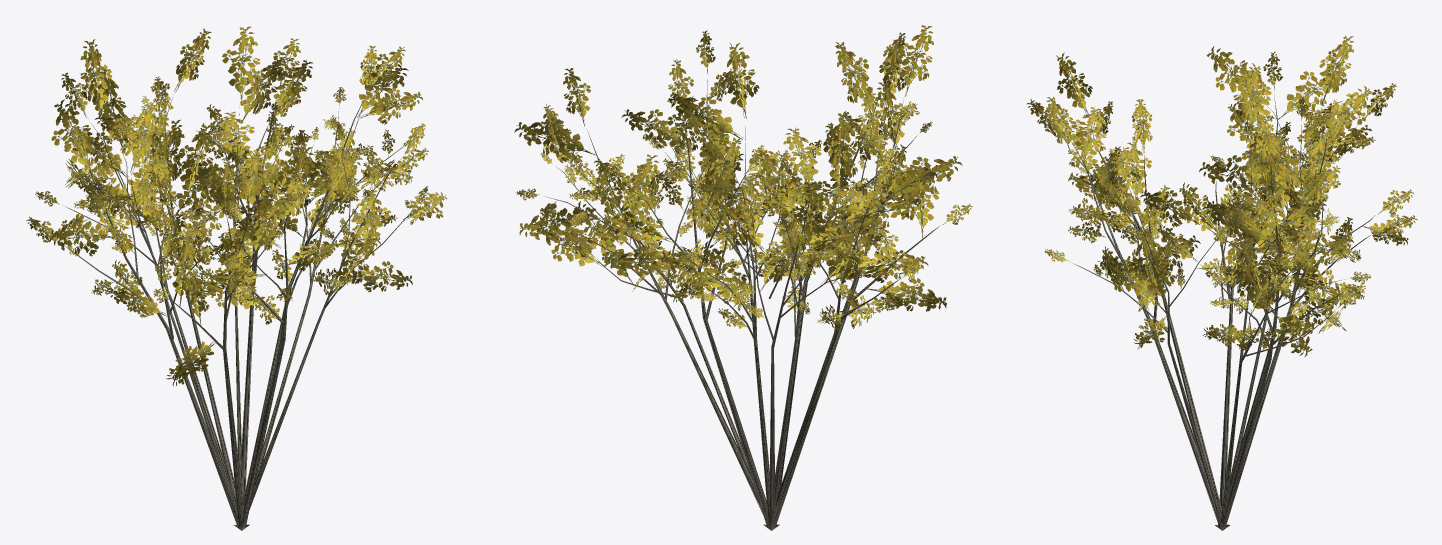
Rendered from tree_LOD1.glb.
The picture shows the model from 3 angles, left to right: view 1: azimuth 30°, elevation 25°; view 2: azimuth 150°, elevation 25°; view 3: azimuth 270°, elevation 25°; orthographic projection. The views are drawn at different scales.
Visible parts, largest first — view 1: Leaves_LOD1, Branches_LOD1; view 2: Leaves_LOD1, Branches_LOD1; view 3: Leaves_LOD1, Branches_LOD1.
Boxes of the visible parts, x1,y1,x2,y2 form: Leaves_LOD1: (26,26,447,386); Branches_LOD1: (63,92,414,530); Leaves_LOD1: (514,25,972,330); Branches_LOD1: (544,79,940,530); Leaves_LOD1: (1026,35,1417,357); Branches_LOD1: (1071,94,1375,530).
Size of the model in its own units: 29.38 by 32.13 by 25.48.
Materials: 2 (2 with a texture image).
